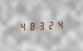eight: (27, 20, 35, 31)
four: (18, 21, 26, 31), (54, 19, 62, 29)
three: (36, 20, 44, 30)
two: (45, 19, 53, 30)
